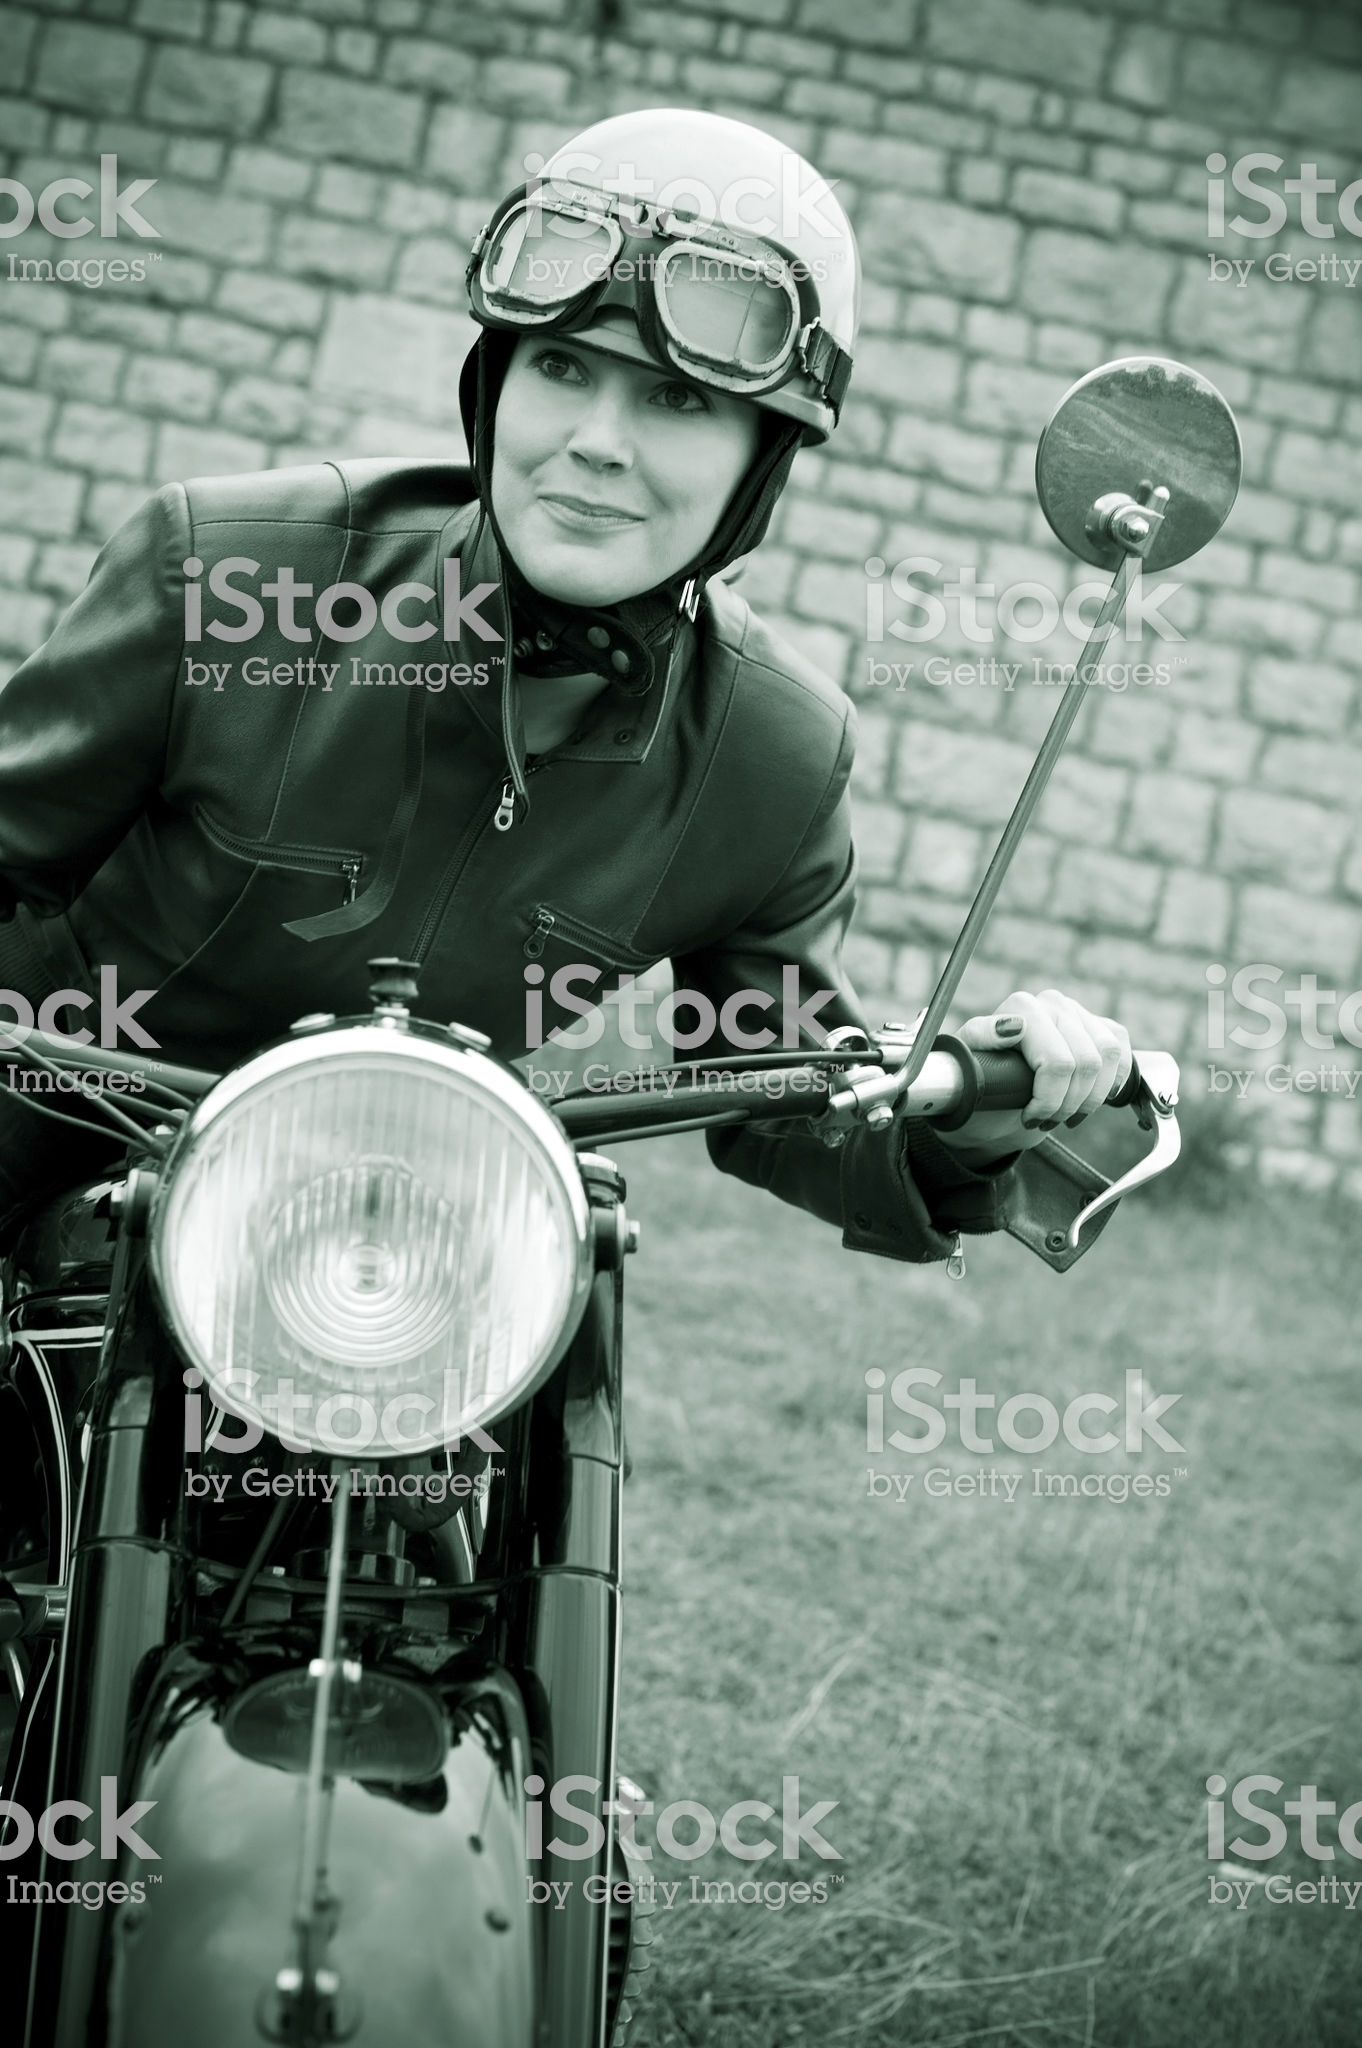helmet: (480, 52, 901, 419)
